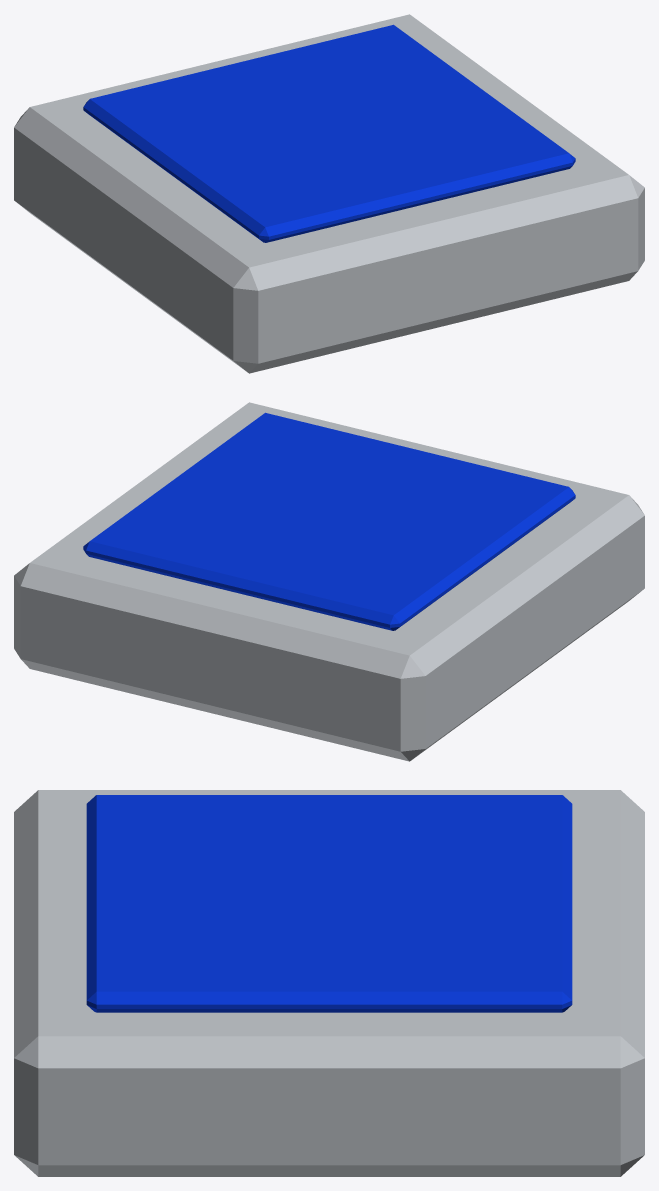
The model's file is pedestal.glb.
The picture shows the model from 3 angles, top to bottom: view 1: azimuth 30°, elevation 25°; view 2: azimuth 150°, elevation 25°; view 3: azimuth 270°, elevation 25°; orthographic projection. The views are drawn at different scales.
Visible parts, largest first — view 1: pedestal; view 2: pedestal; view 3: pedestal.
Part boxes in pixels (left/top/right/bottom): pedestal: left=14, top=14, right=644, bottom=373; pedestal: left=14, top=402, right=644, bottom=761; pedestal: left=14, top=790, right=644, bottom=1176.
Size of the model in its own units: 1.3 by 0.365 by 1.3.
